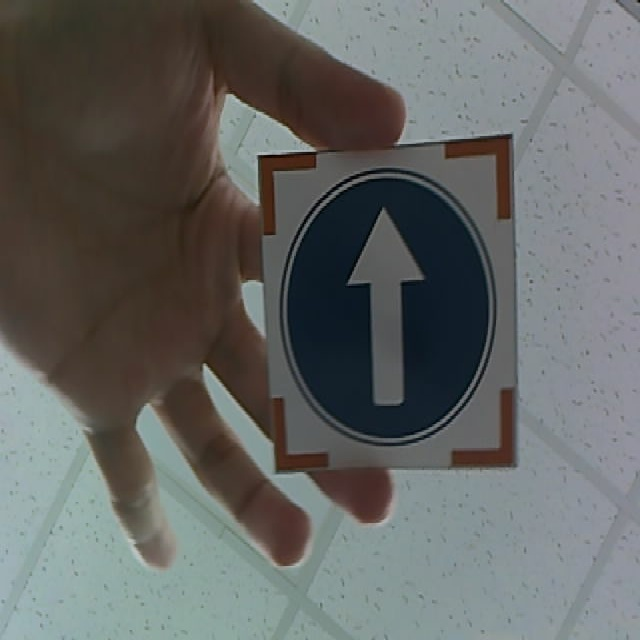straight: (255, 132, 524, 475)
